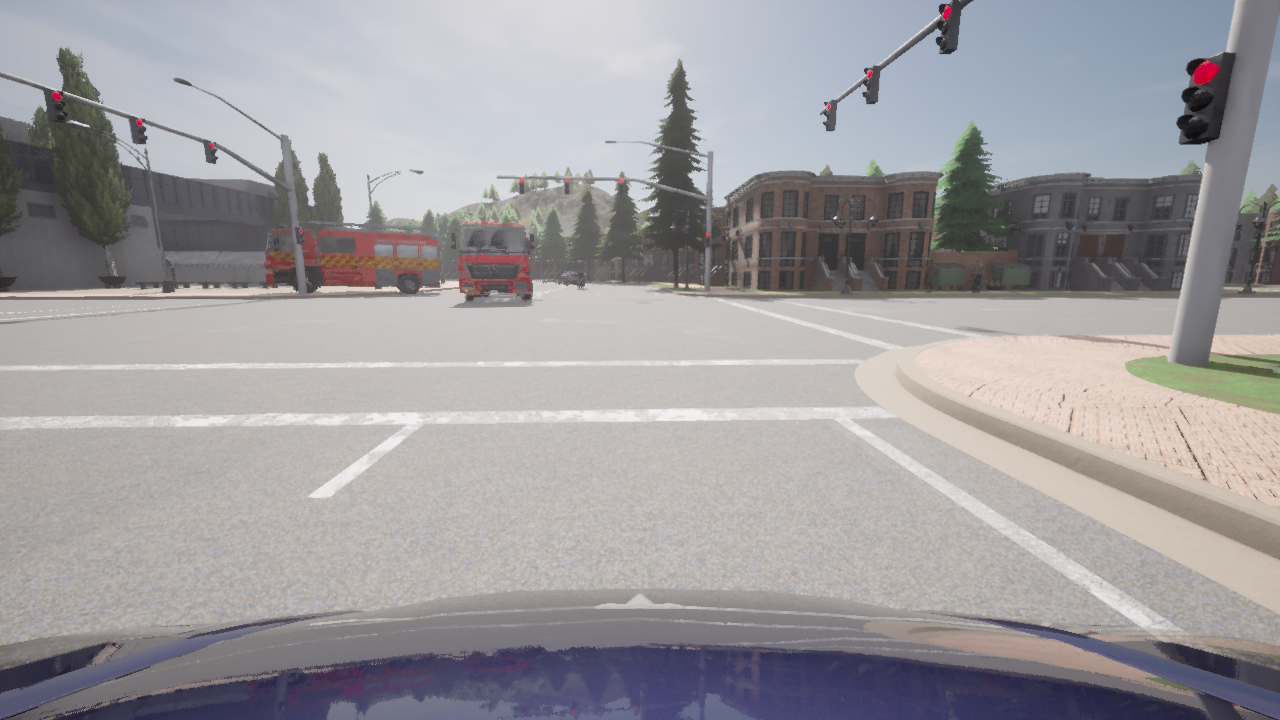cyclist: (0, 588, 1279, 719), (263, 220, 439, 294), (450, 221, 534, 301), (559, 271, 577, 284), (577, 275, 583, 288), (583, 276, 584, 281)
pedestrian: (973, 259, 984, 292), (925, 259, 935, 292), (969, 259, 978, 291)
